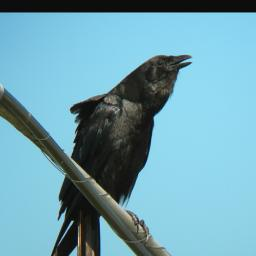Crow: (43, 51, 193, 256)
